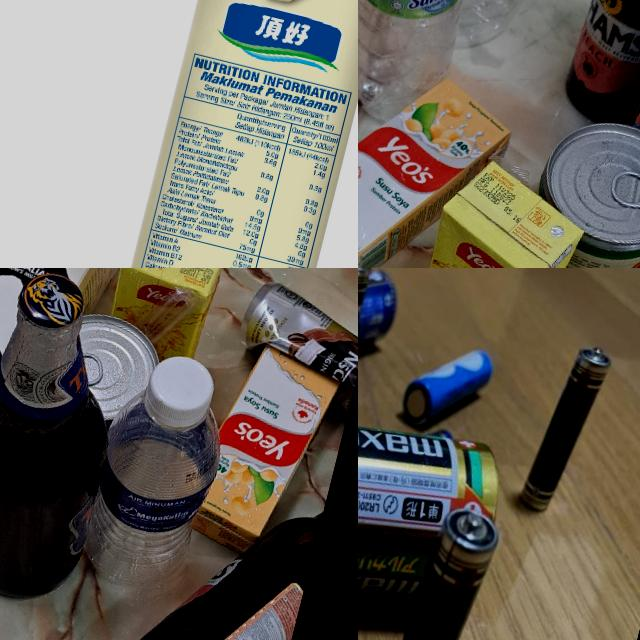aba de lata: (609, 166, 640, 213), (75, 352, 107, 388)
bateria: (358, 389, 515, 640), (360, 498, 506, 640), (518, 332, 620, 518), (392, 331, 499, 446), (358, 268, 407, 378), (358, 268, 383, 414)
caixinha: (75, 0, 358, 268), (185, 335, 343, 565), (358, 46, 521, 268), (0, 268, 169, 454), (358, 175, 640, 268), (401, 148, 578, 268), (98, 268, 229, 371)
garrafa de vidro: (0, 268, 147, 615), (115, 442, 330, 640), (557, 0, 640, 141), (606, 0, 640, 260)
garrafa plástica: (70, 382, 233, 602), (358, 0, 475, 127), (424, 0, 533, 51)
lata: (220, 275, 358, 439), (510, 109, 640, 268), (54, 307, 168, 434)
tampa plástica: (142, 350, 220, 431)
